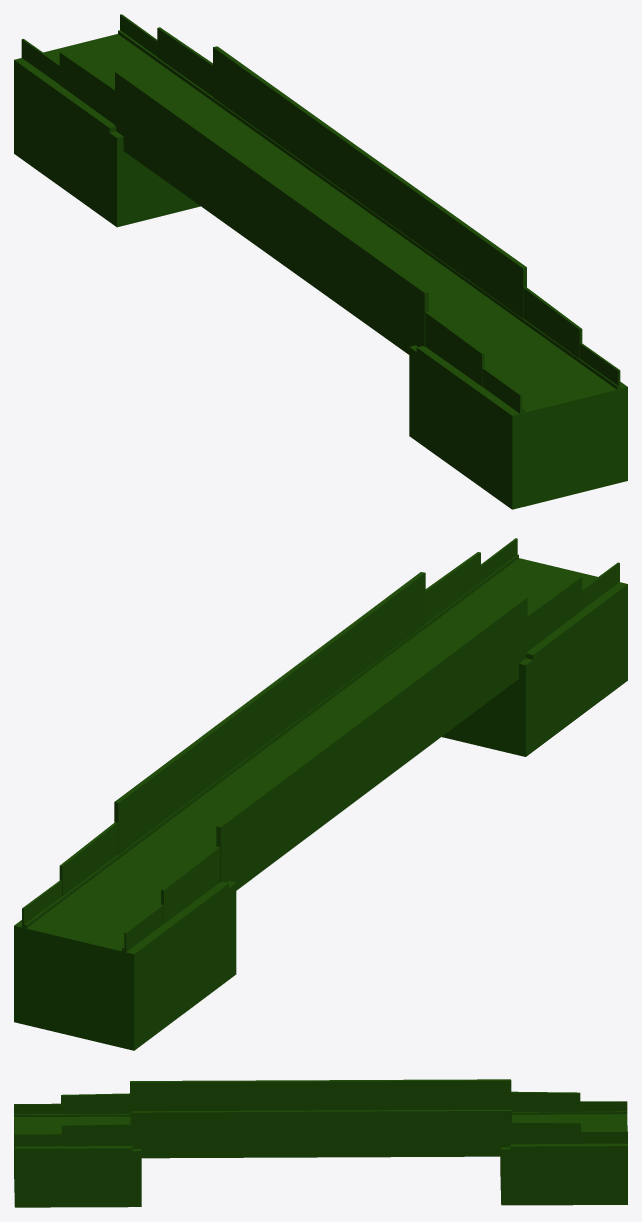
Rendered from T2_Bridge01.fbx.
The picture shows the model from 3 angles, top to bottom: view 1: azimuth 30°, elevation 25°; view 2: azimuth 150°, elevation 25°; view 3: azimuth 270°, elevation 25°; orthographic projection. The views are drawn at different scales.
Visible parts, largest first — view 1: T2_Bridge01; view 2: T2_Bridge01; view 3: T2_Bridge01.
Part boxes in pixels (box(x1,y1,x2,y2)): T2_Bridge01: box(14, 14, 627, 509); T2_Bridge01: box(14, 538, 627, 1050); T2_Bridge01: box(14, 1079, 627, 1207).
Size of the model in its own units: 5.59 by 6.29 by 37.83.
